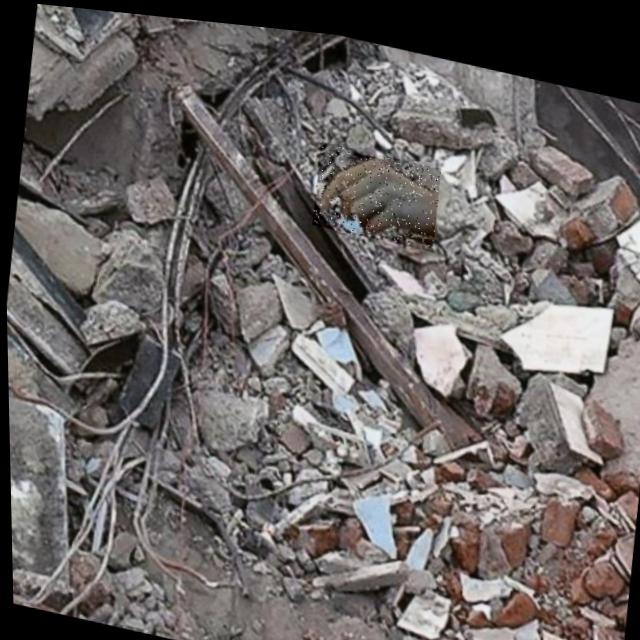Person in Rubble: (309, 133, 441, 243)
